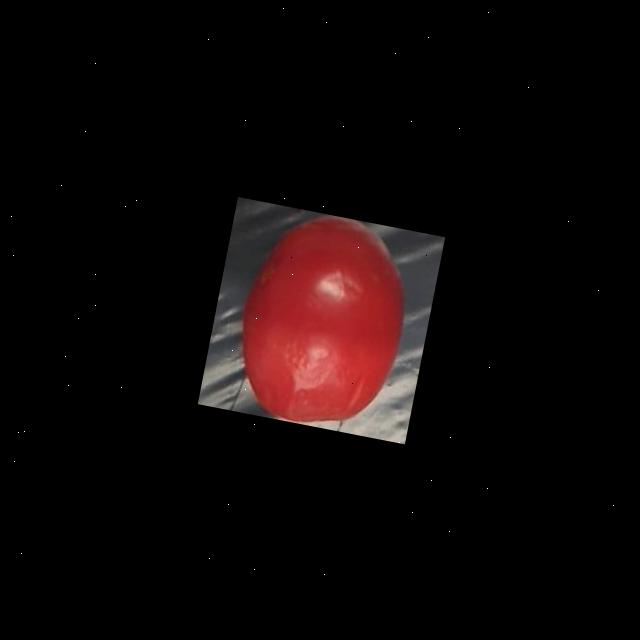tomato: (217, 200, 427, 440)
